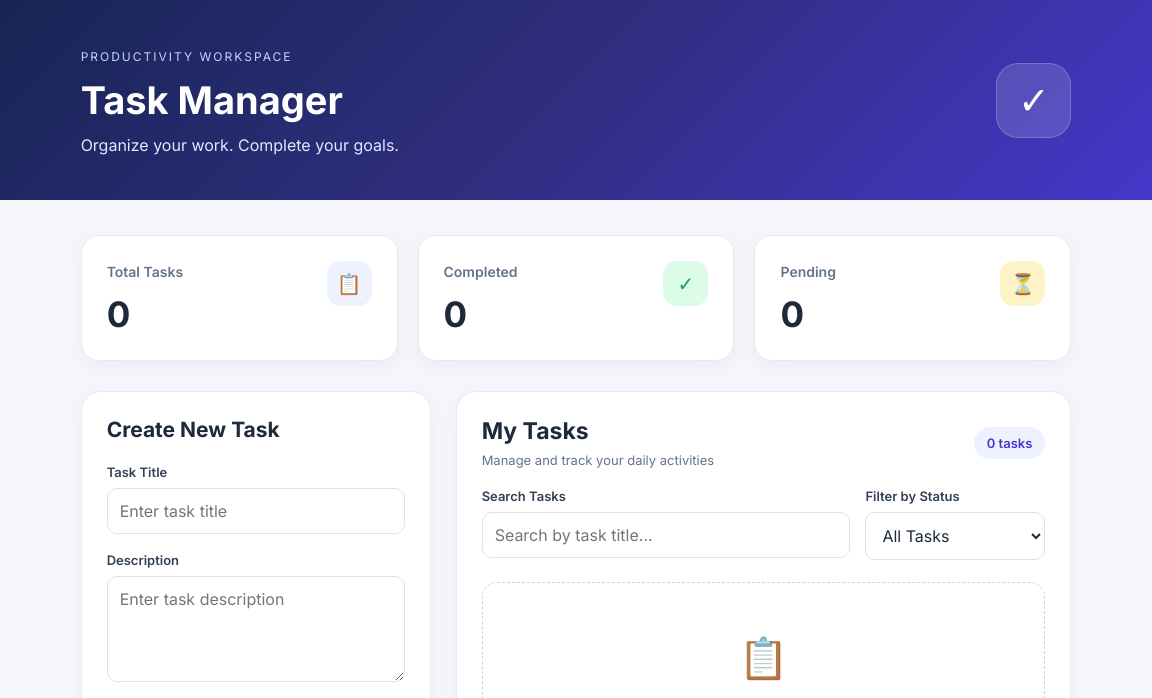
Test: Task Manager Integration Tests › searches tasks by title
Type "Learn React" into the field labelled "Task Title" at [256, 511], box [107, 488, 405, 534]
(page scrolled)
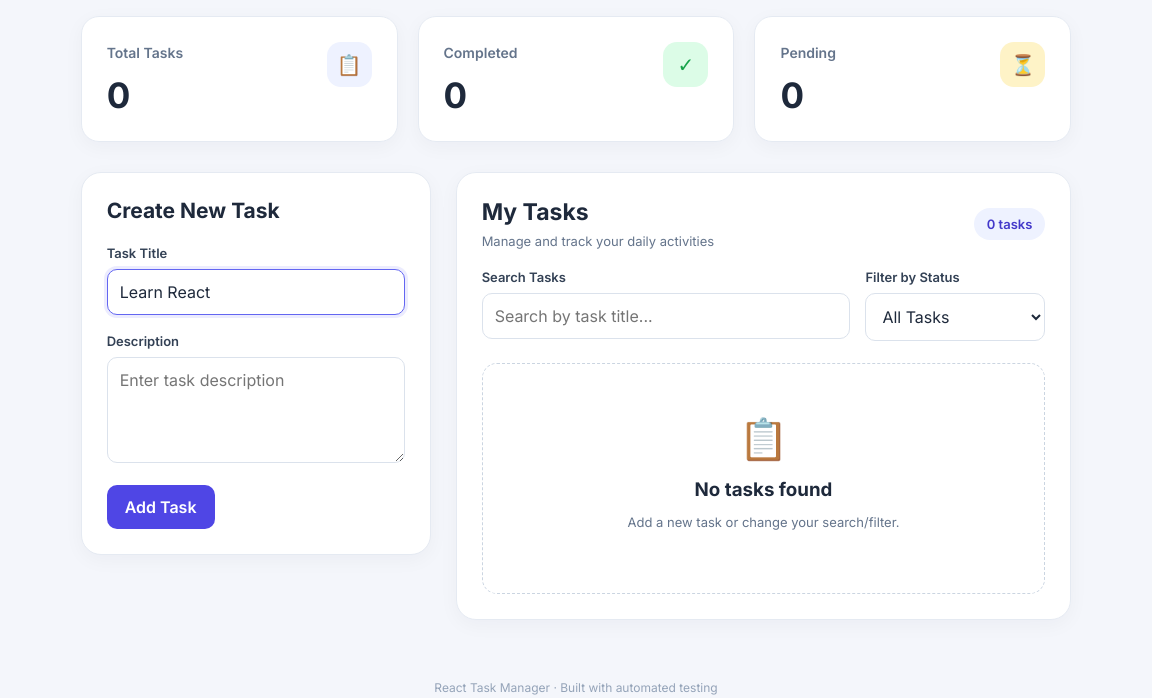
Click the button "Add Task" at [161, 507], box [107, 485, 214, 529]
(page scrolled)
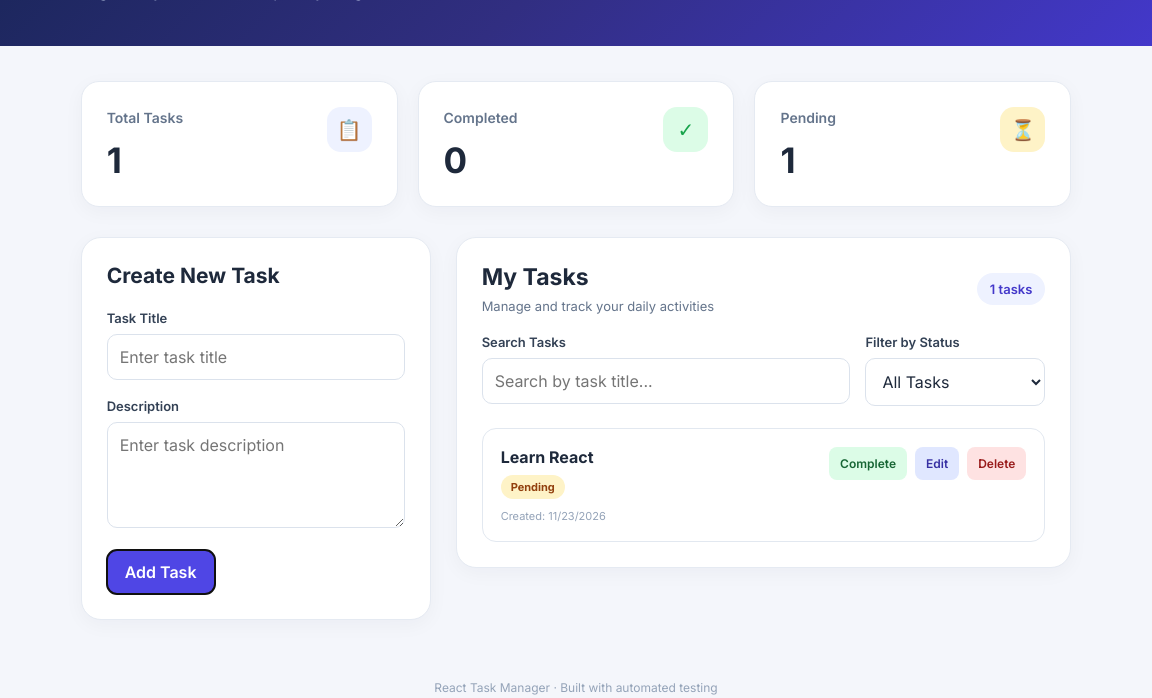
Type "Learn Testing" into the field labelled "Task Title" at [256, 357], box [107, 334, 405, 380]
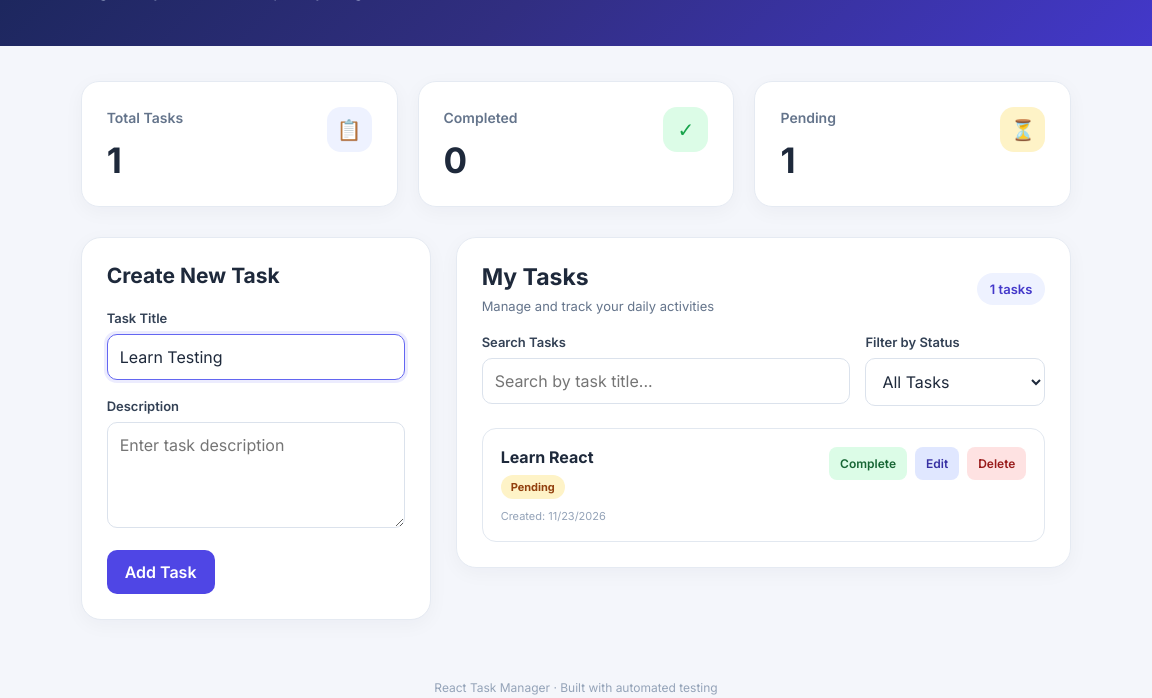
Click the button "Add Task" at [161, 572], box [107, 550, 214, 594]
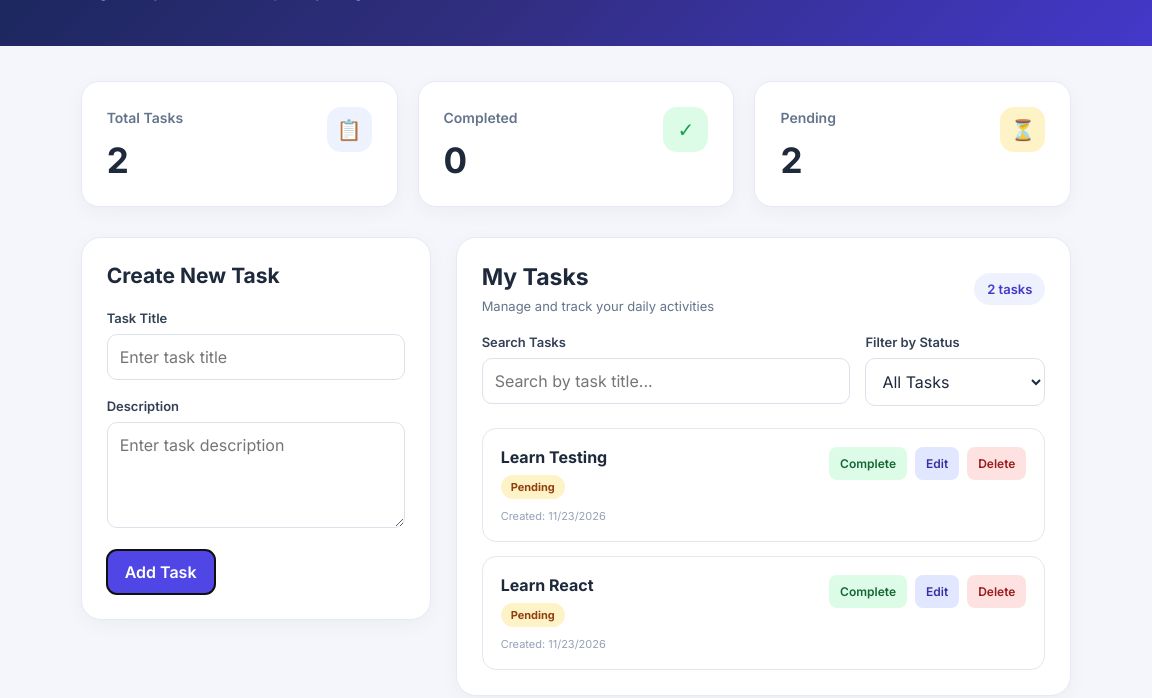
Type "React" into the search field labelled "Search Tasks" at [666, 381], box [482, 358, 850, 404]
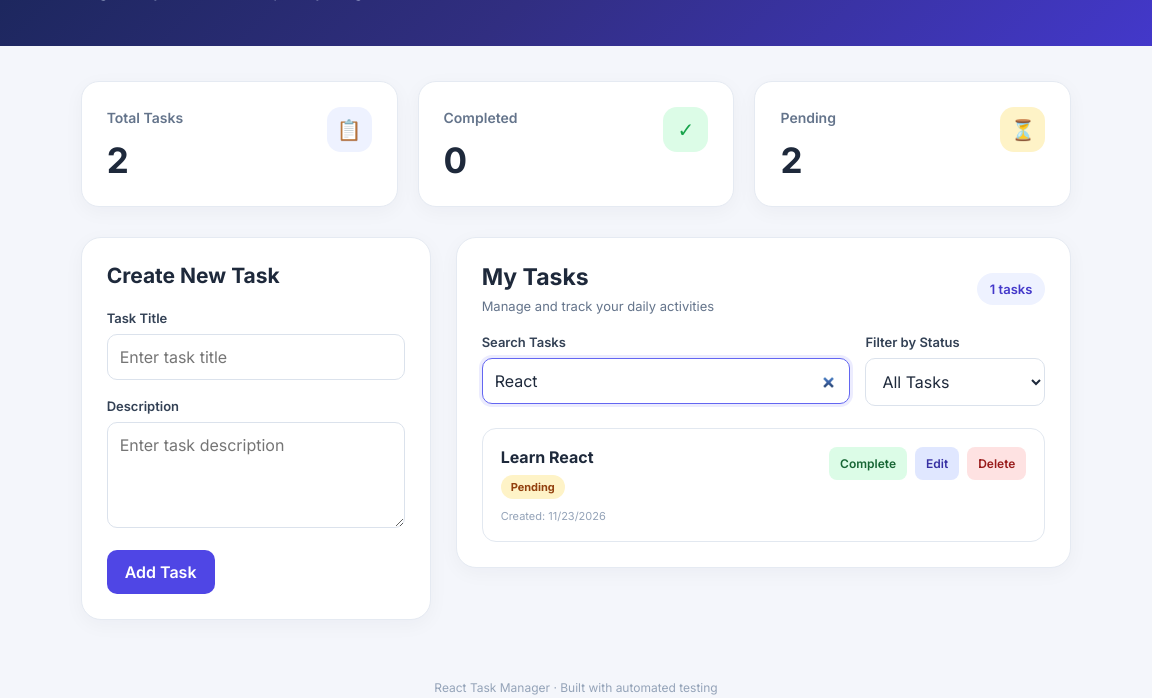
Now the heading "Learn React" is shown, box [501, 447, 606, 467]
Now the heading "Learn Testing" is gone
